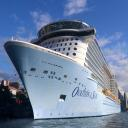cruises: (4, 14, 122, 122)
